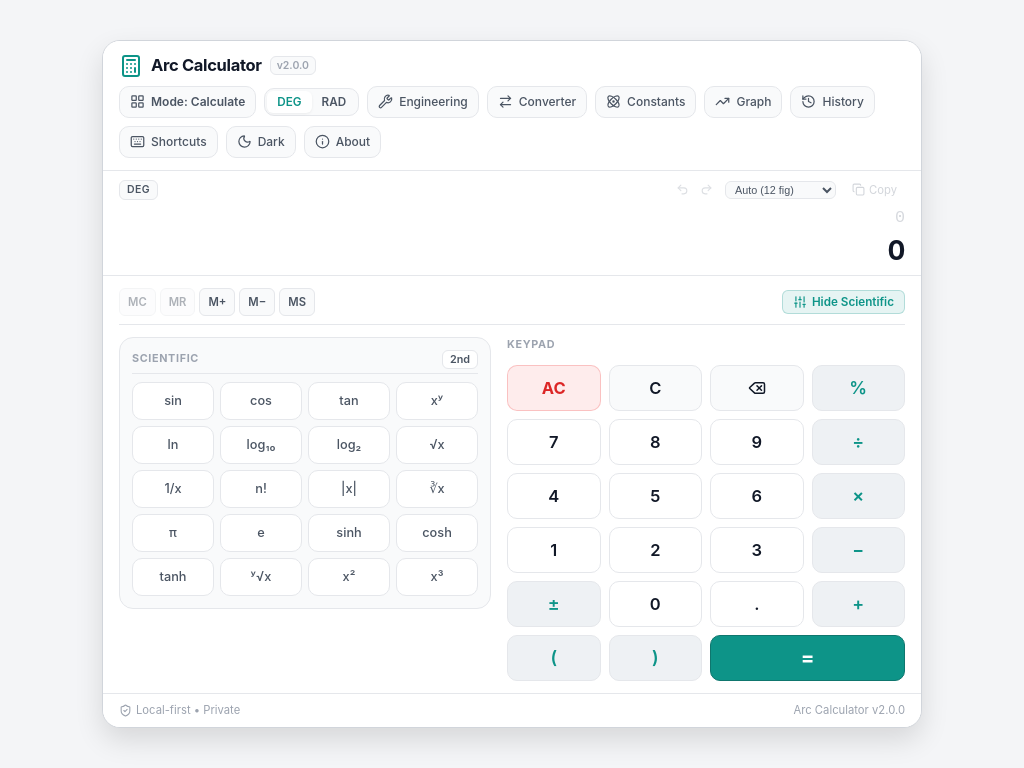
Test: Arc Calculator UI & Accessibility › opens history drawer and shows empty state
The image size is (1024, 768).
Click the button with aria-label "calculation history". click: [833, 102]
box: [790,86,875,118]
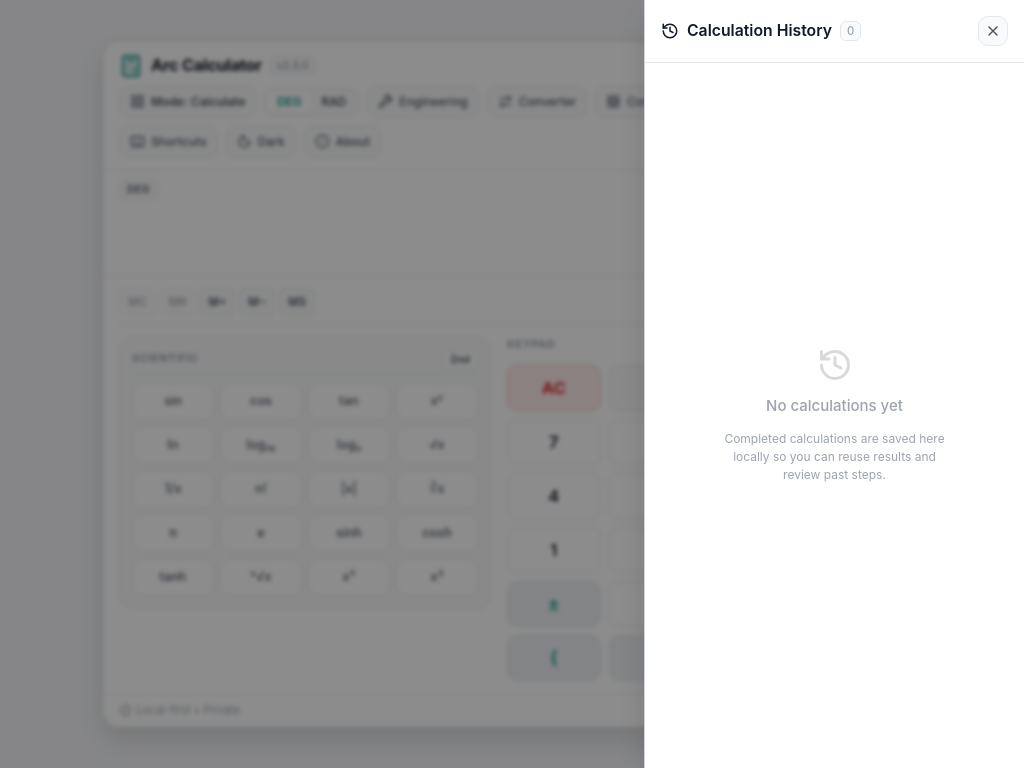
Expected: the dialog "Calculation History" is shown
Expected: the text "No calculations yet" is shown, [766,395,903,418]
